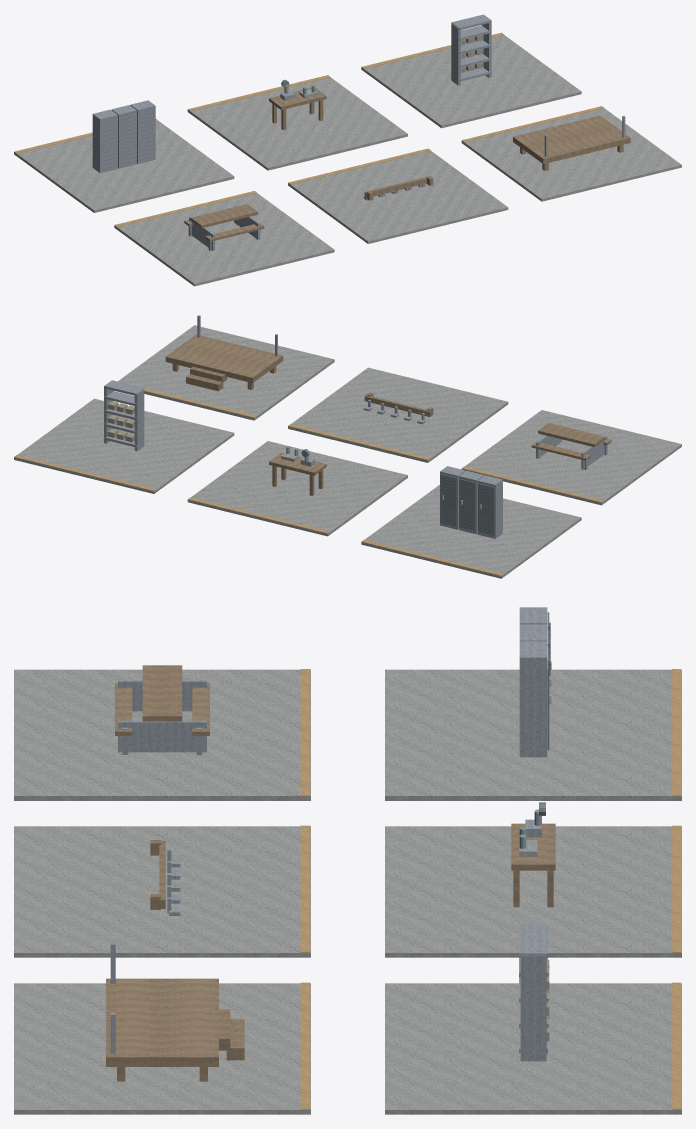
The model's file is level_blockout_kit_school_p03.glb.
3 views of the same model, one above another, from view 1: azimuth 30°, elevation 25°; view 2: azimuth 150°, elevation 25°; view 3: azimuth 270°, elevation 25° (orthographic). The views are drawn at different scales.
Visible parts, largest first — view 1: level_blockout_kit_school_p03; view 2: level_blockout_kit_school_p03; view 3: level_blockout_kit_school_p03.
Part boxes in pixels (x1,y1,x2,y2): level_blockout_kit_school_p03: (14, 14, 681, 286); level_blockout_kit_school_p03: (14, 315, 681, 578); level_blockout_kit_school_p03: (14, 607, 681, 1114).
Size of the model in its own units: 19.65 by 2.33 by 12.6.
Materials: 9 (9 with a texture image).
